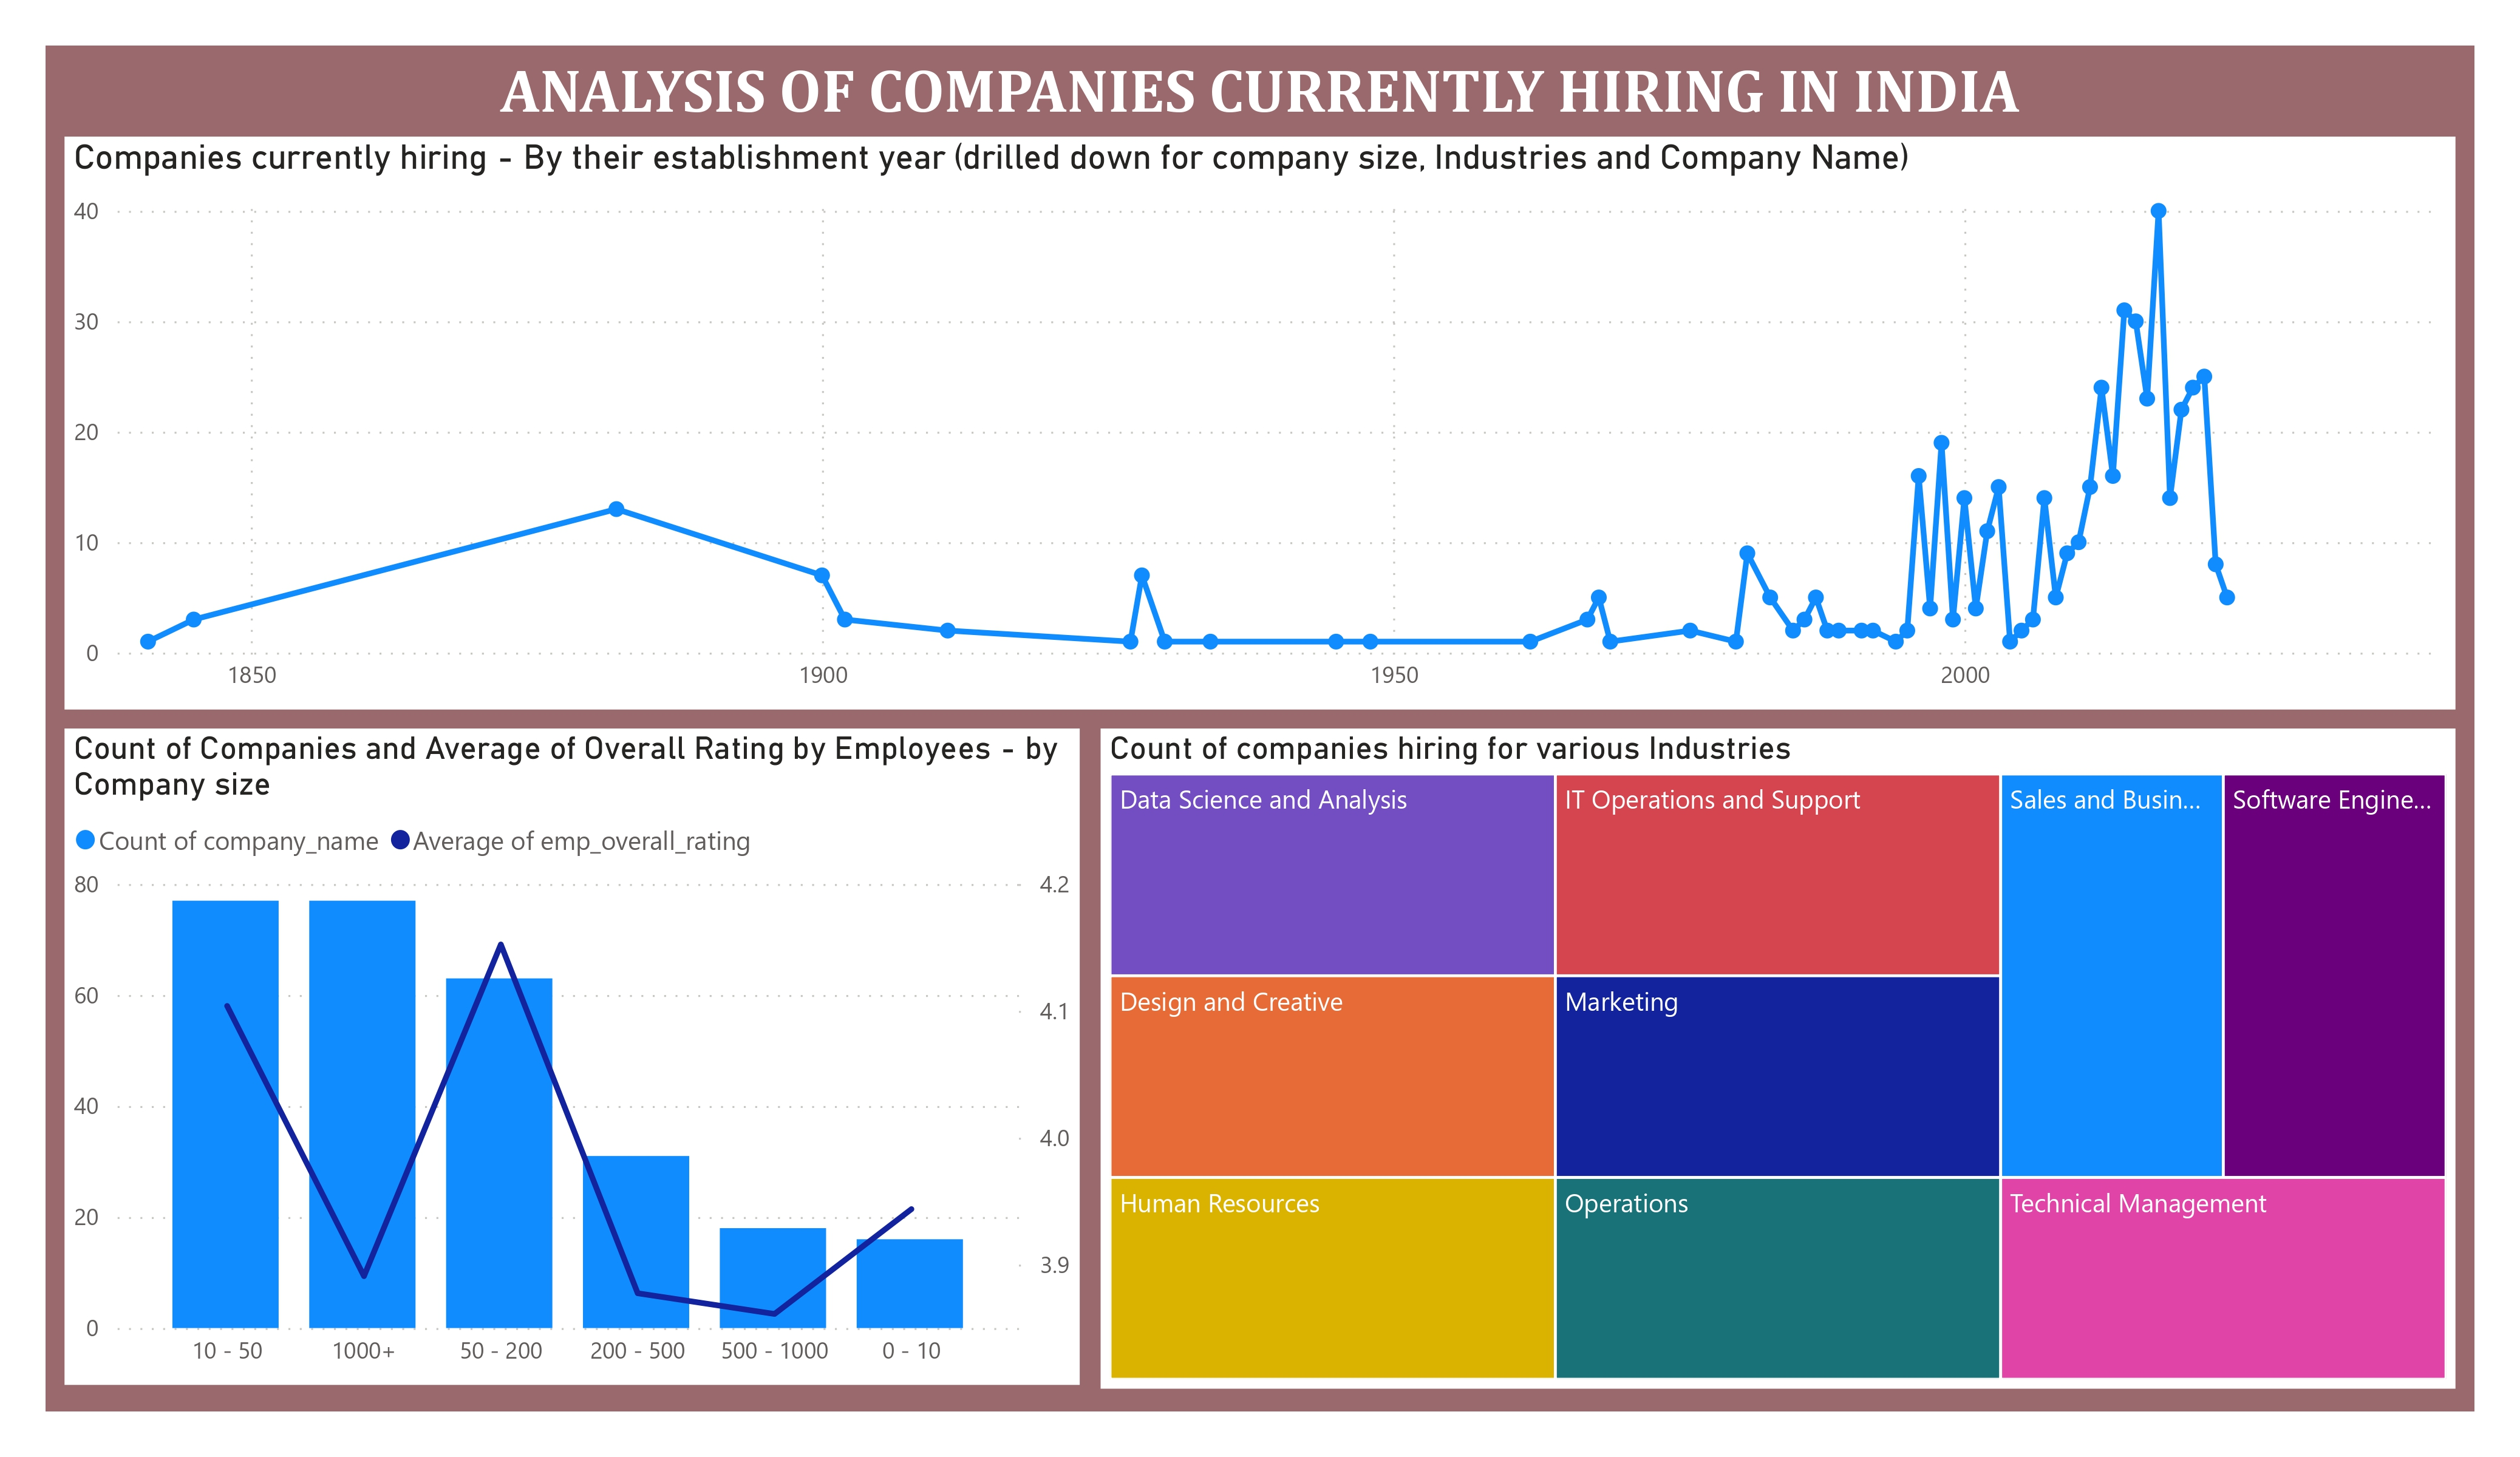

This screenshot's page, from the dashboard's own definition file:
{"tool":"powerbi","page":{"name":"Company","canvas":[1280,720],"ordinal":2},"visuals":[{"type":"lineClusteredColumnComboChart","title":"Count of Companies and Average of Overall Rating by Employees - by Company size","fields":{"Category":["companies.employees_count"],"Y":["CountNonNull(companies.company_name)"],"Y2":["Avg(companies.emp_overall_rating)"]},"box":[10,360,535,346.2],"z":0},{"type":"lineChart","title":"Companies currently hiring - By their establishment year (drilled down for company size, Industries and Company Name)","fields":{"Category":["companies.estab_year","companies.employees_count","jobs.industry","companies.company_name"],"Y":["CountNonNull(jobs.company_name)"]},"box":[10,47.5,1260,302.5],"z":1000},{"type":"treemap","title":"Count of companies hiring for various Industries","fields":{"Values":["Count(companies.company_name)"],"Group":["jobs.industry"]},"box":[556.2,360,713.8,347.5],"z":2000},{"type":"textbox","box":[10,0,1260,47.5],"z":3000}]}

Visuals, with their boxes in screenshot pixels (x1, y1, x2, y2):
"Count of Companies and Average of Overall Rating by Employees - by Company size" lineClusteredColumnComboChart: 64/728/1080/1385
"Companies currently hiring - By their establishment year (drilled down for company size, Industries and Company Name)" lineChart: 64/135/2456/710
"Count of companies hiring for various Industries" treemap: 1101/728/2456/1388
textbox: 64/46/2456/135
